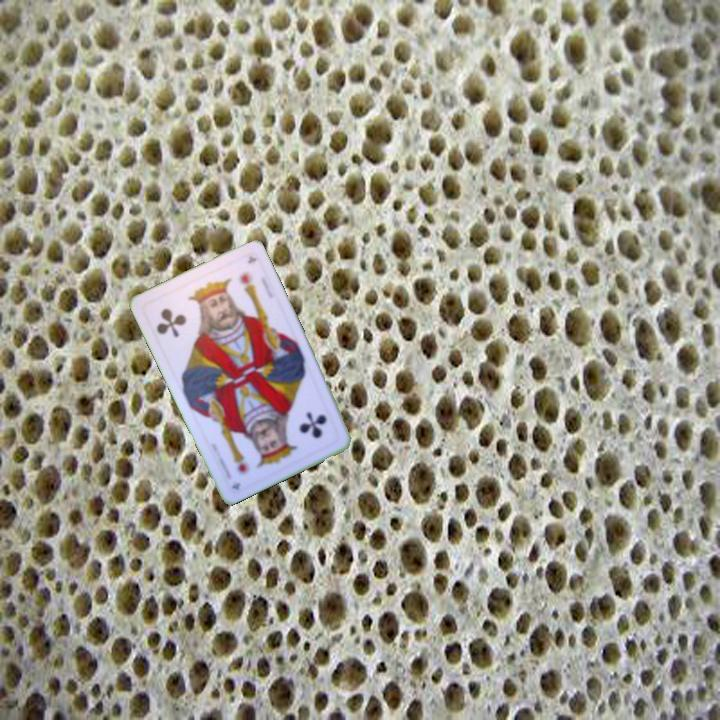c_k.png: (139, 276, 223, 355), (261, 388, 344, 467)
